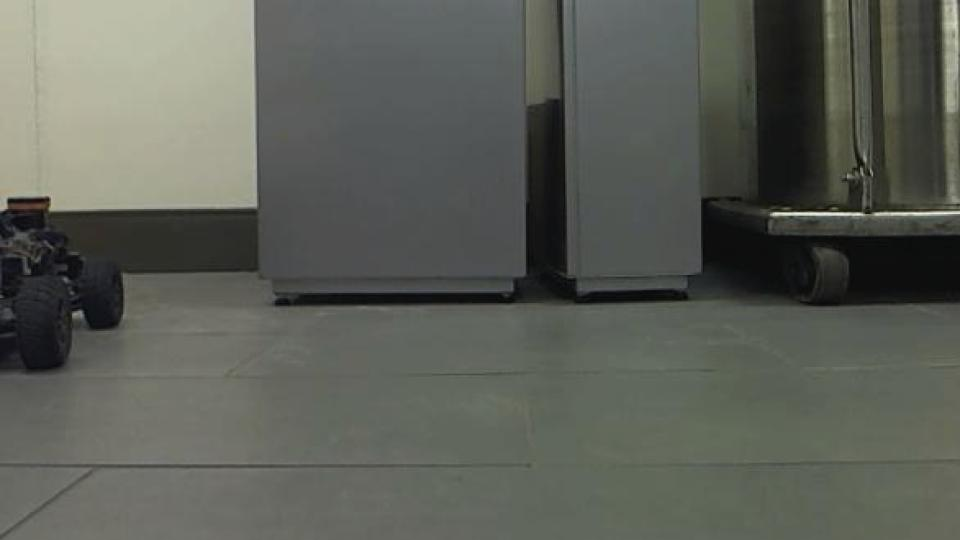car: (0, 148, 128, 374)
